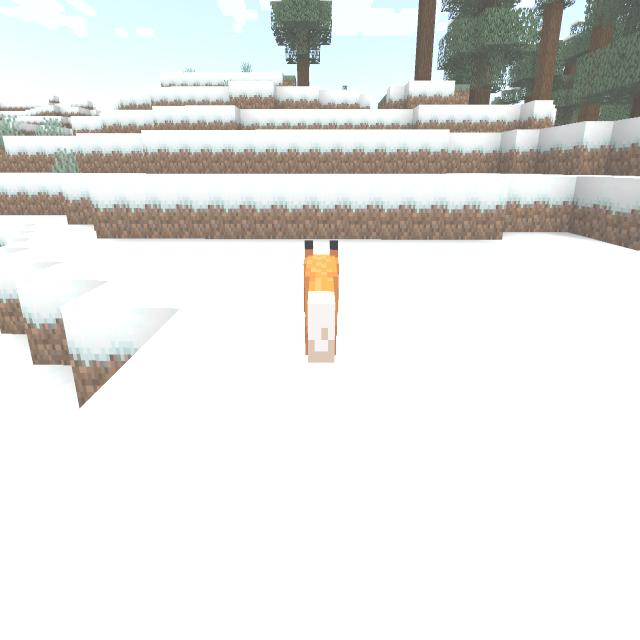Fox: (298, 227, 348, 383)
